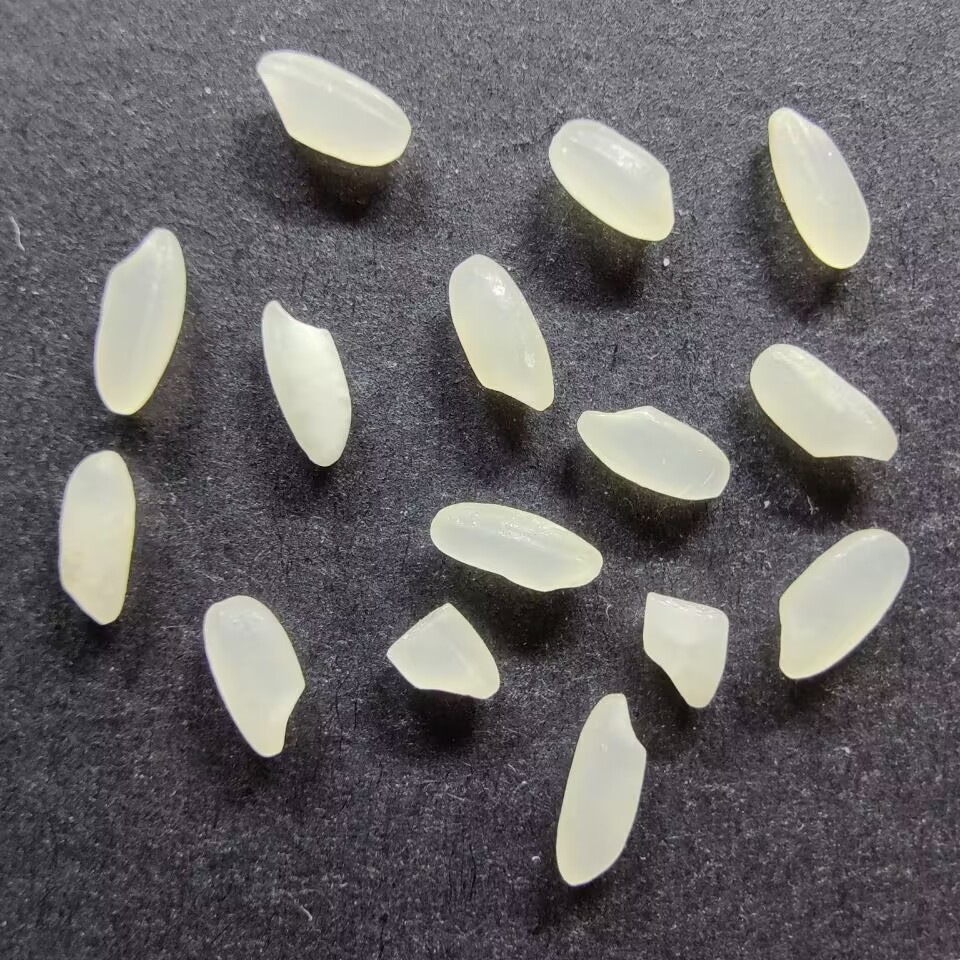broken: (386, 599, 501, 700), (641, 590, 730, 710)
rice: (775, 526, 912, 680), (554, 692, 650, 888), (255, 47, 410, 168), (748, 341, 900, 464), (92, 224, 186, 419), (767, 106, 876, 270), (200, 593, 307, 758), (447, 252, 557, 411), (258, 296, 354, 468), (428, 500, 604, 592), (547, 117, 676, 242), (573, 404, 731, 502), (57, 448, 136, 627)
